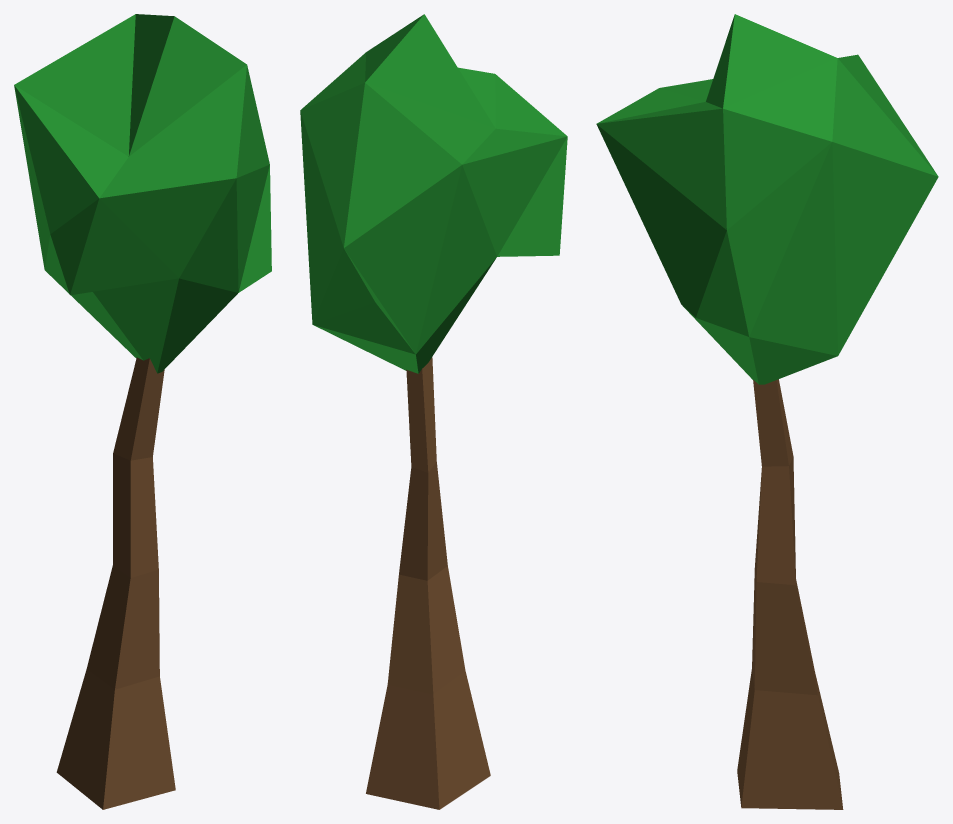
The model's file is tree3.fbx.
3 views of the same model, side by side, from view 1: azimuth 30°, elevation 25°; view 2: azimuth 150°, elevation 25°; view 3: azimuth 270°, elevation 25° (orthographic). The views are drawn at different scales.
Visible parts, largest first — view 1: Tree3; view 2: Tree3; view 3: Tree3.
Boxes of the visible parts, x1,y1,x2,y2 form: Tree3: (14, 14, 271, 809); Tree3: (300, 14, 567, 809); Tree3: (596, 14, 938, 809).
Bounding box in the file's own units: 201 × 658 × 258.
